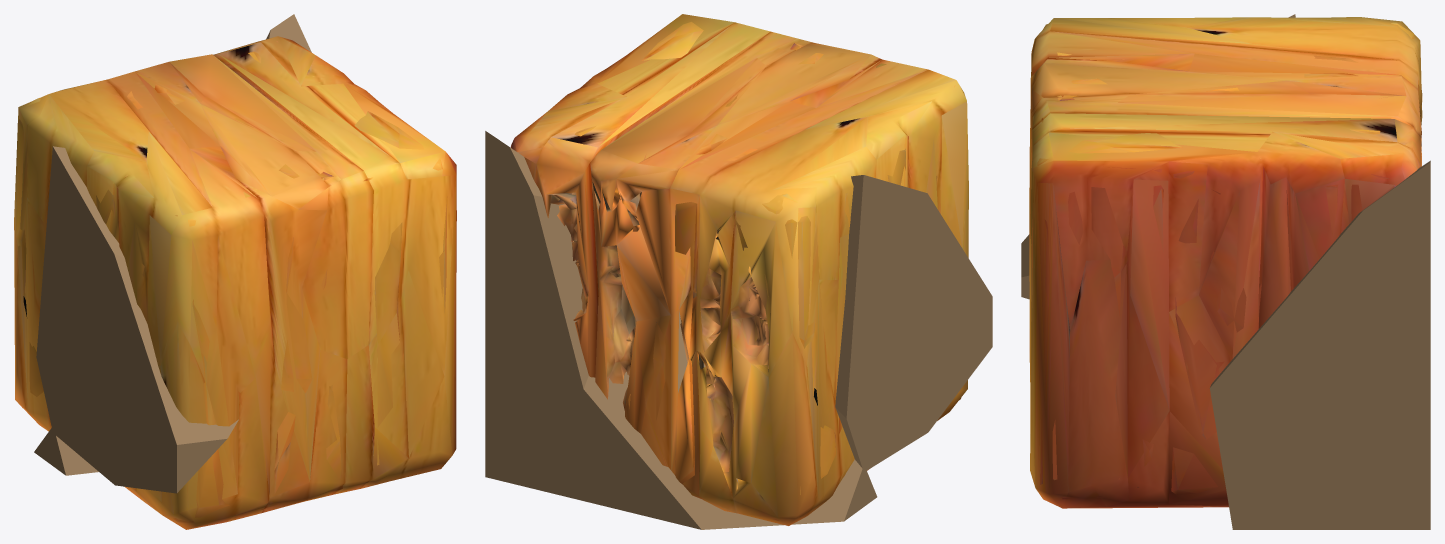
File: ahsap_kup_2_parcali.glb
3 views of the same model, side by side, from view 1: azimuth 30°, elevation 25°; view 2: azimuth 150°, elevation 25°; view 3: azimuth 270°, elevation 25° (orthographic). The views are drawn at different scales.
Parts seen in each view (by area): view 1: p05, p07, p02; view 2: p05, p07, p02; view 3: p05, p07.
Boxes of the visible parts, <box> form: p05: <box>14,14,456,529</box>; p07: <box>36,146,238,493</box>; p02: <box>34,428,98,475</box>; p05: <box>485,14,968,525</box>; p07: <box>835,175,992,470</box>; p02: <box>581,310,877,529</box>; p05: <box>1029,17,1430,529</box>; p07: <box>1021,14,1295,299</box>.
Size of the model in its own units: 0.9563 by 1.01 by 1.01.
2 materials, 1 textured.
